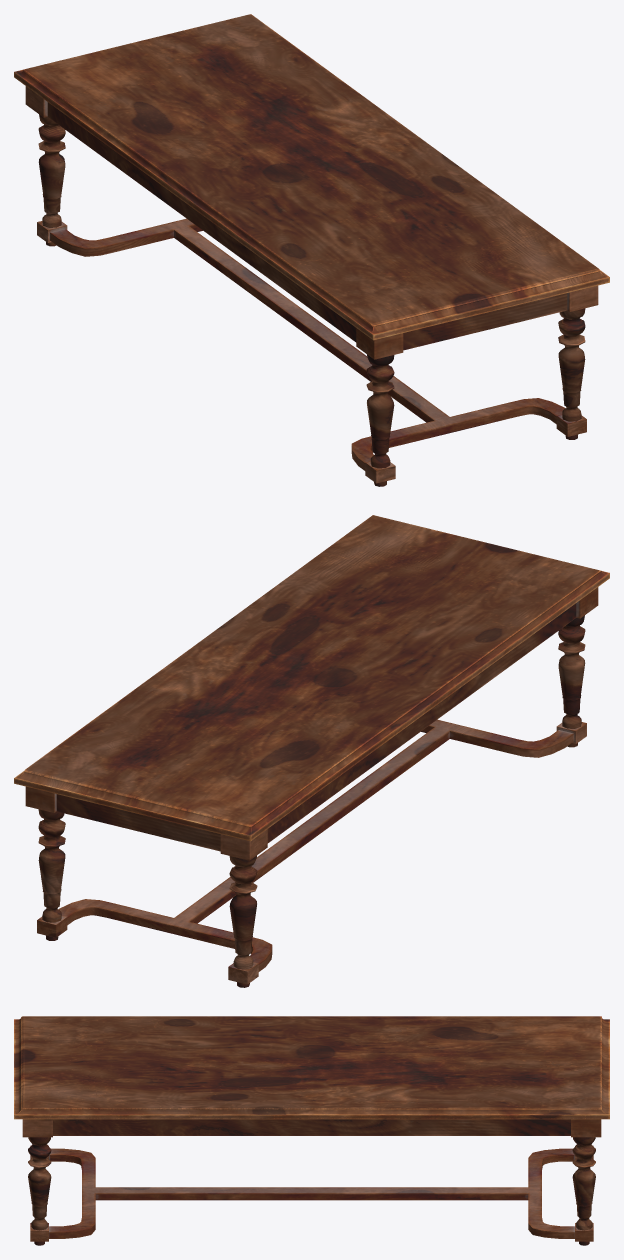
Rendered from colonial_table_-_mesa_colonial.glb.
3 views of the same model, one above another, from view 1: azimuth 30°, elevation 25°; view 2: azimuth 150°, elevation 25°; view 3: azimuth 270°, elevation 25° (orthographic). The views are drawn at different scales.
Visible parts, largest first — view 1: Mesa_Obj; view 2: Mesa_Obj; view 3: Mesa_Obj.
Part boxes in pixels (box(x1,y1,x2,y2)): Mesa_Obj: box(14, 14, 609, 486); Mesa_Obj: box(14, 515, 609, 987); Mesa_Obj: box(14, 1016, 609, 1245).
Size of the model in its own units: 0.092 by 0.0638 by 0.242.
3 materials, 3 textured.
